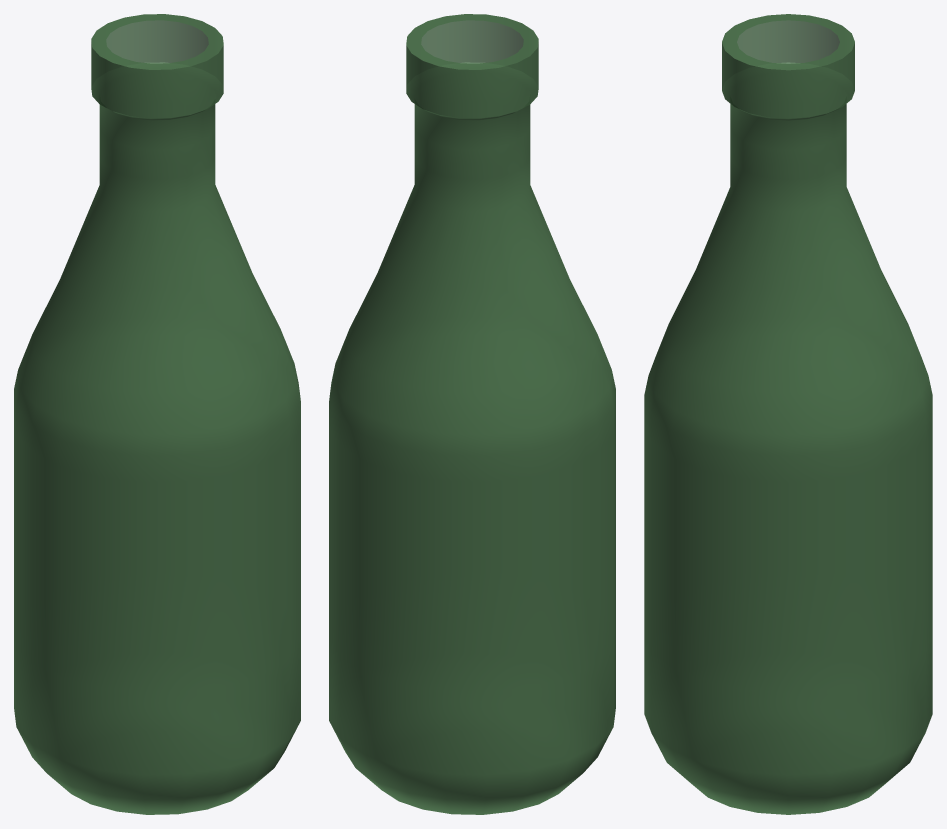
Rendered from Mesh_WineBottle.fbx.
3 renders of one model, left to right at view 1: azimuth 30°, elevation 25°; view 2: azimuth 150°, elevation 25°; view 3: azimuth 270°, elevation 25°, orthographic.
Parts seen in each view (by area): view 1: pCylinder1; view 2: pCylinder1; view 3: pCylinder1.
Boxes of the visible parts, x1,y1,x2,y2 form: pCylinder1: [14, 14, 300, 814]; pCylinder1: [329, 14, 615, 814]; pCylinder1: [644, 14, 932, 814].
Bounding box in the file's own units: 58.29 × 163 × 58.29.
